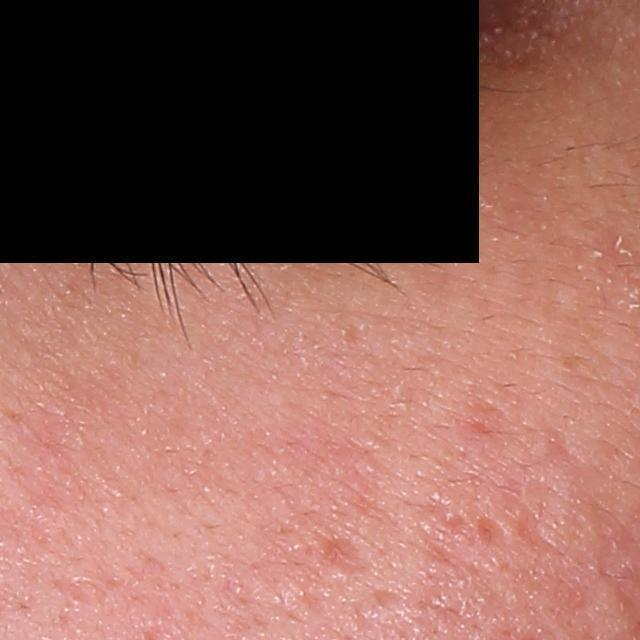atrophic_scar: (413, 493, 510, 581), (511, 475, 563, 554), (315, 535, 383, 574), (368, 588, 405, 616)
